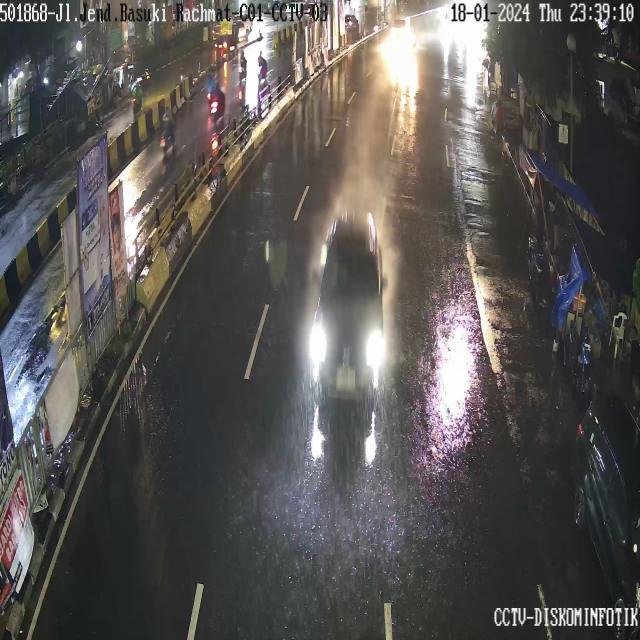Terpal: (549, 250, 585, 329)
